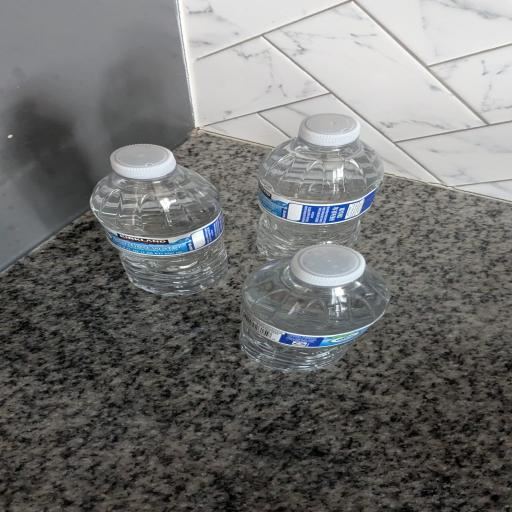waterbottle: (91, 145, 226, 295), (241, 245, 389, 370), (257, 114, 383, 259)
